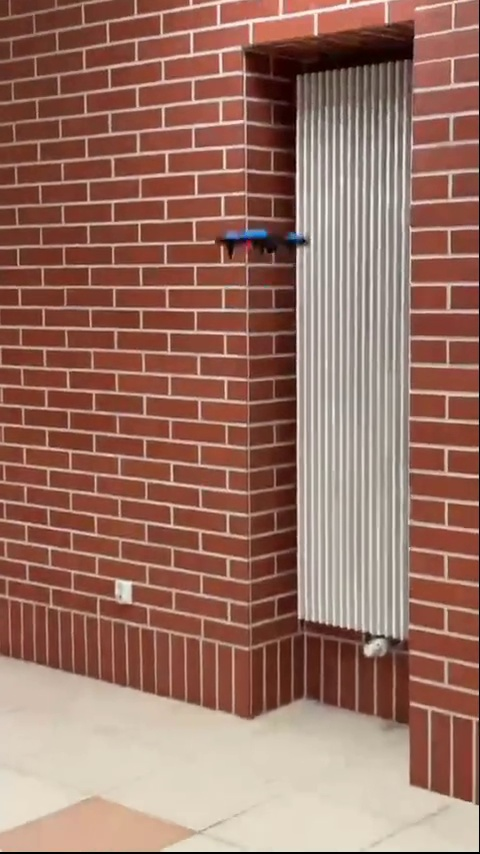drone: (213, 220, 305, 256)
